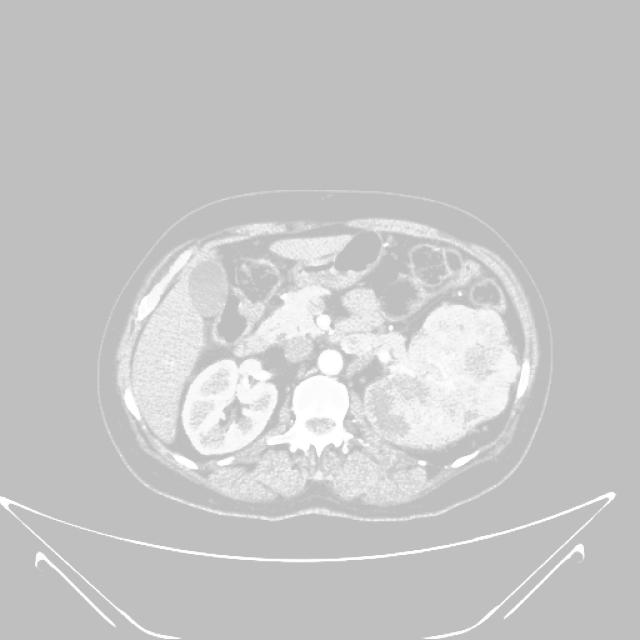TUMOR: (141, 304, 616, 442)
